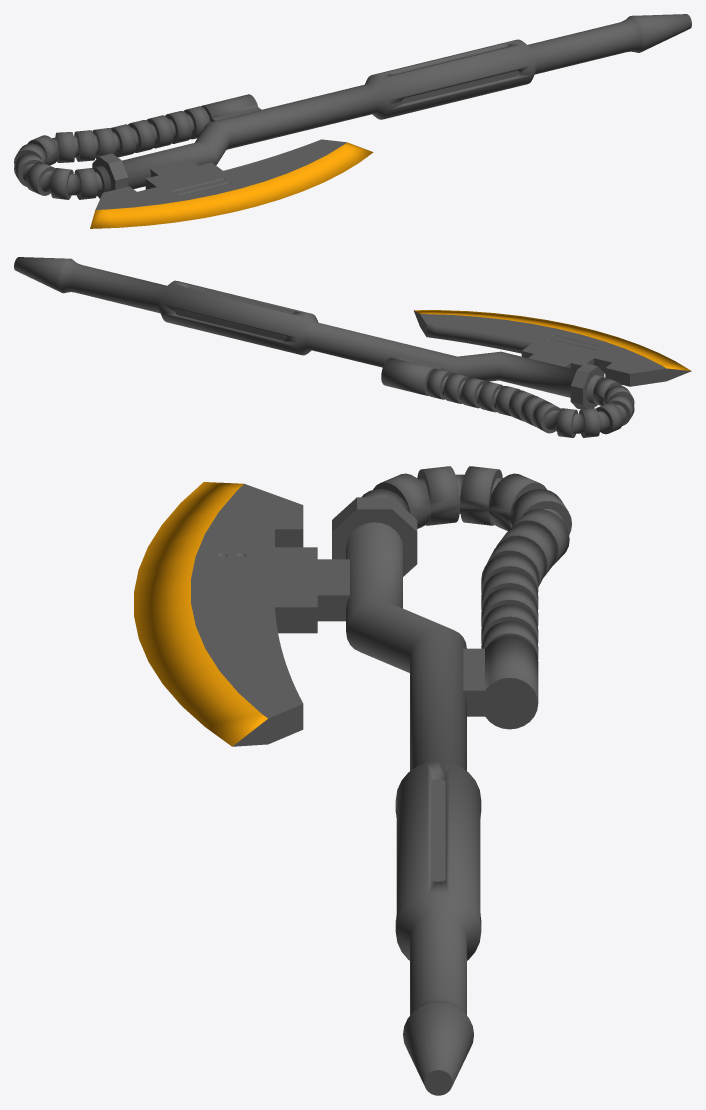
File: axe.fbx
The picture shows the model from 3 angles, top to bottom: view 1: azimuth 30°, elevation 25°; view 2: azimuth 150°, elevation 25°; view 3: azimuth 270°, elevation 25°; orthographic projection. The views are drawn at different scales.
Visible parts, largest first — view 1: G-__556428, G-__556419, G-__556437; view 2: G-__556428, G-__556419, G-__556437; view 3: G-__556428, G-__556419, G-__556437.
Boxes of the visible parts, <box> form: G-__556428: <box>92,14,691,198</box>; G-__556419: <box>90,139,373,228</box>; G-__556437: <box>14,94,261,199</box>; G-__556428: <box>14,257,604,409</box>; G-__556419: <box>413,310,691,386</box>; G-__556437: <box>381,357,634,437</box>; G-__556428: <box>332,497,481,1095</box>; G-__556419: <box>134,482,349,746</box>; G-__556437: <box>361,466,571,729</box>.
Size of the model in its own units: 811 by 48.75 by 250.
